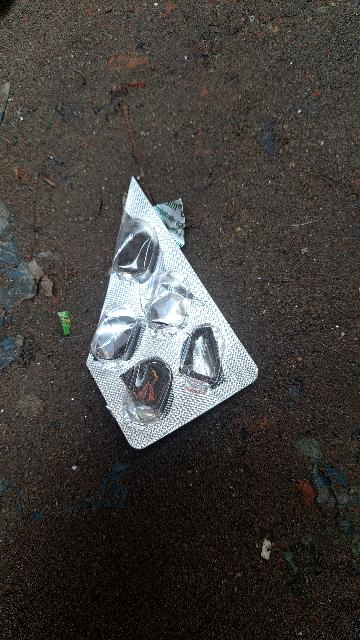medicine: (0, 168, 265, 461)
